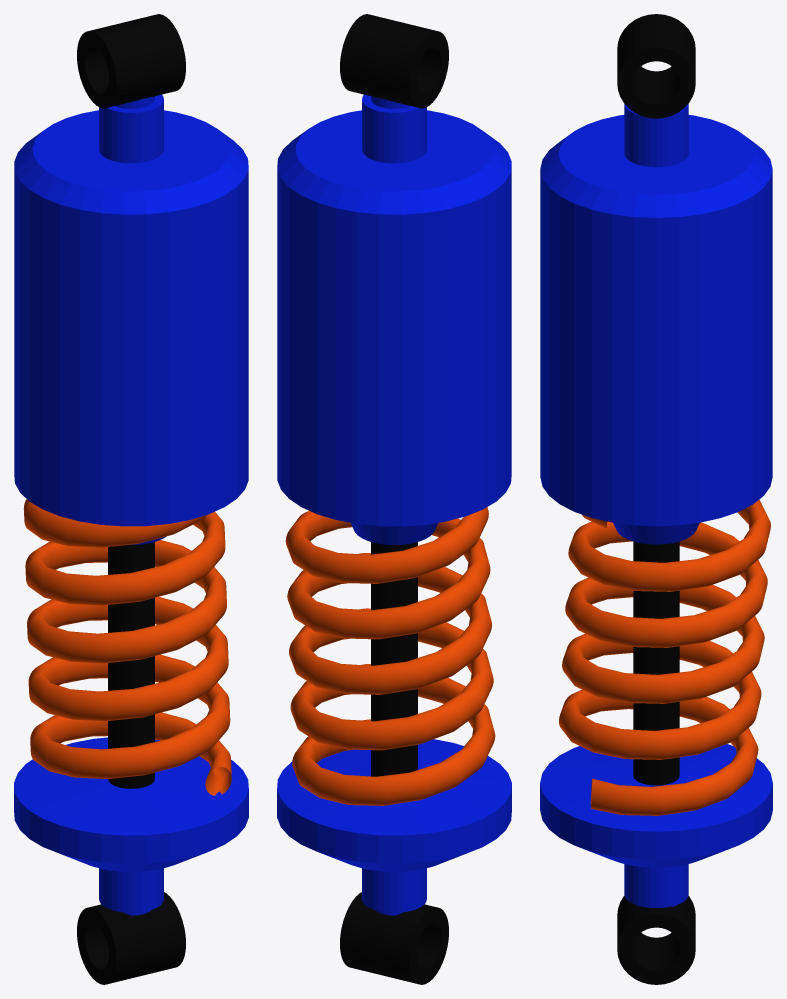
The model's file is upgrade_suspension.fbx.
The picture shows the model from 3 angles, left to right: view 1: azimuth 30°, elevation 25°; view 2: azimuth 150°, elevation 25°; view 3: azimuth 270°, elevation 25°; orthographic projection.
Parts seen in each view (by area): view 1: shock, spring, shock.001, attachment point; view 2: shock, shock.001, spring, attachment point; view 3: shock, spring, shock.001, attachment point.
Part boxes in pixels (left/top/right/bottom): shock: left=14, top=94, right=248, bottom=915; spring: left=23, top=499, right=231, bottom=795; shock.001: left=14, top=32, right=248, bottom=984; attachment point: left=77, top=14, right=185, bottom=982; shock: left=277, top=94, right=511, bottom=907; shock.001: left=277, top=39, right=511, bottom=984; spring: left=285, top=507, right=495, bottom=805; attachment point: left=340, top=14, right=448, bottom=983; shock: left=540, top=104, right=772, bottom=907; spring: left=559, top=499, right=770, bottom=815; shock.001: left=549, top=48, right=772, bottom=970; attachment point: left=617, top=14, right=695, bottom=984.
Bounding box in the file's own units: 72.13 × 321 × 72.13.
